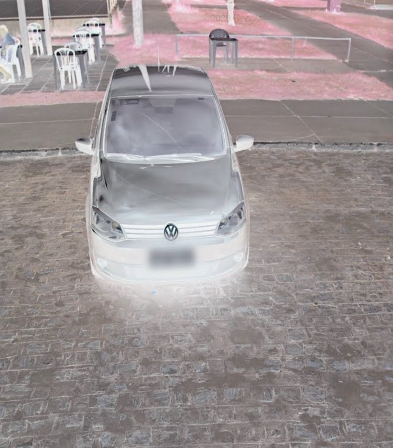car: (75, 43, 257, 288)
